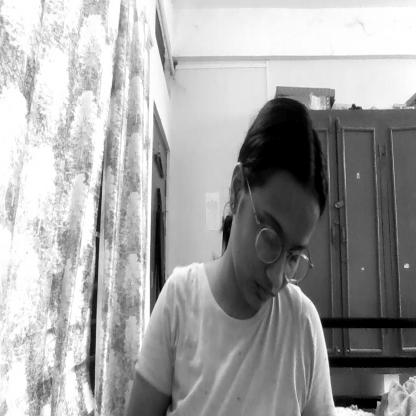Distracted: (232, 116, 312, 308)
